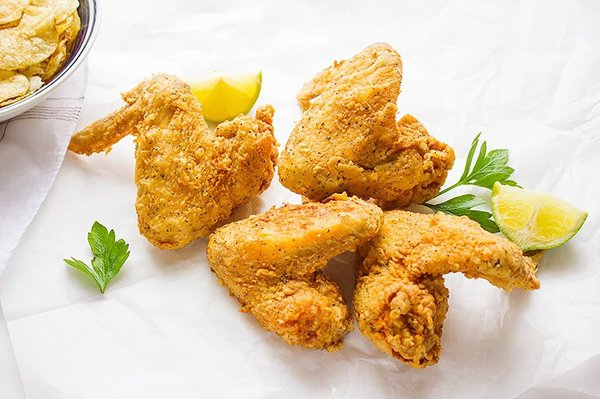sushi: (0, 1, 102, 142)
